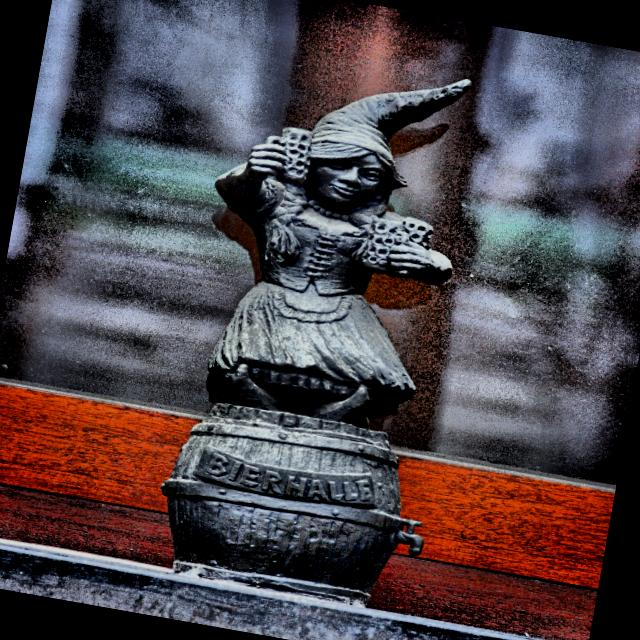Bawarka: (162, 80, 469, 604)
